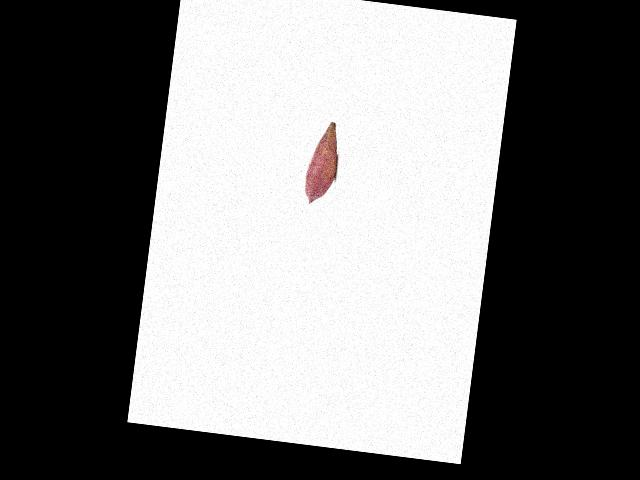sweet_potato: (302, 119, 340, 206)
